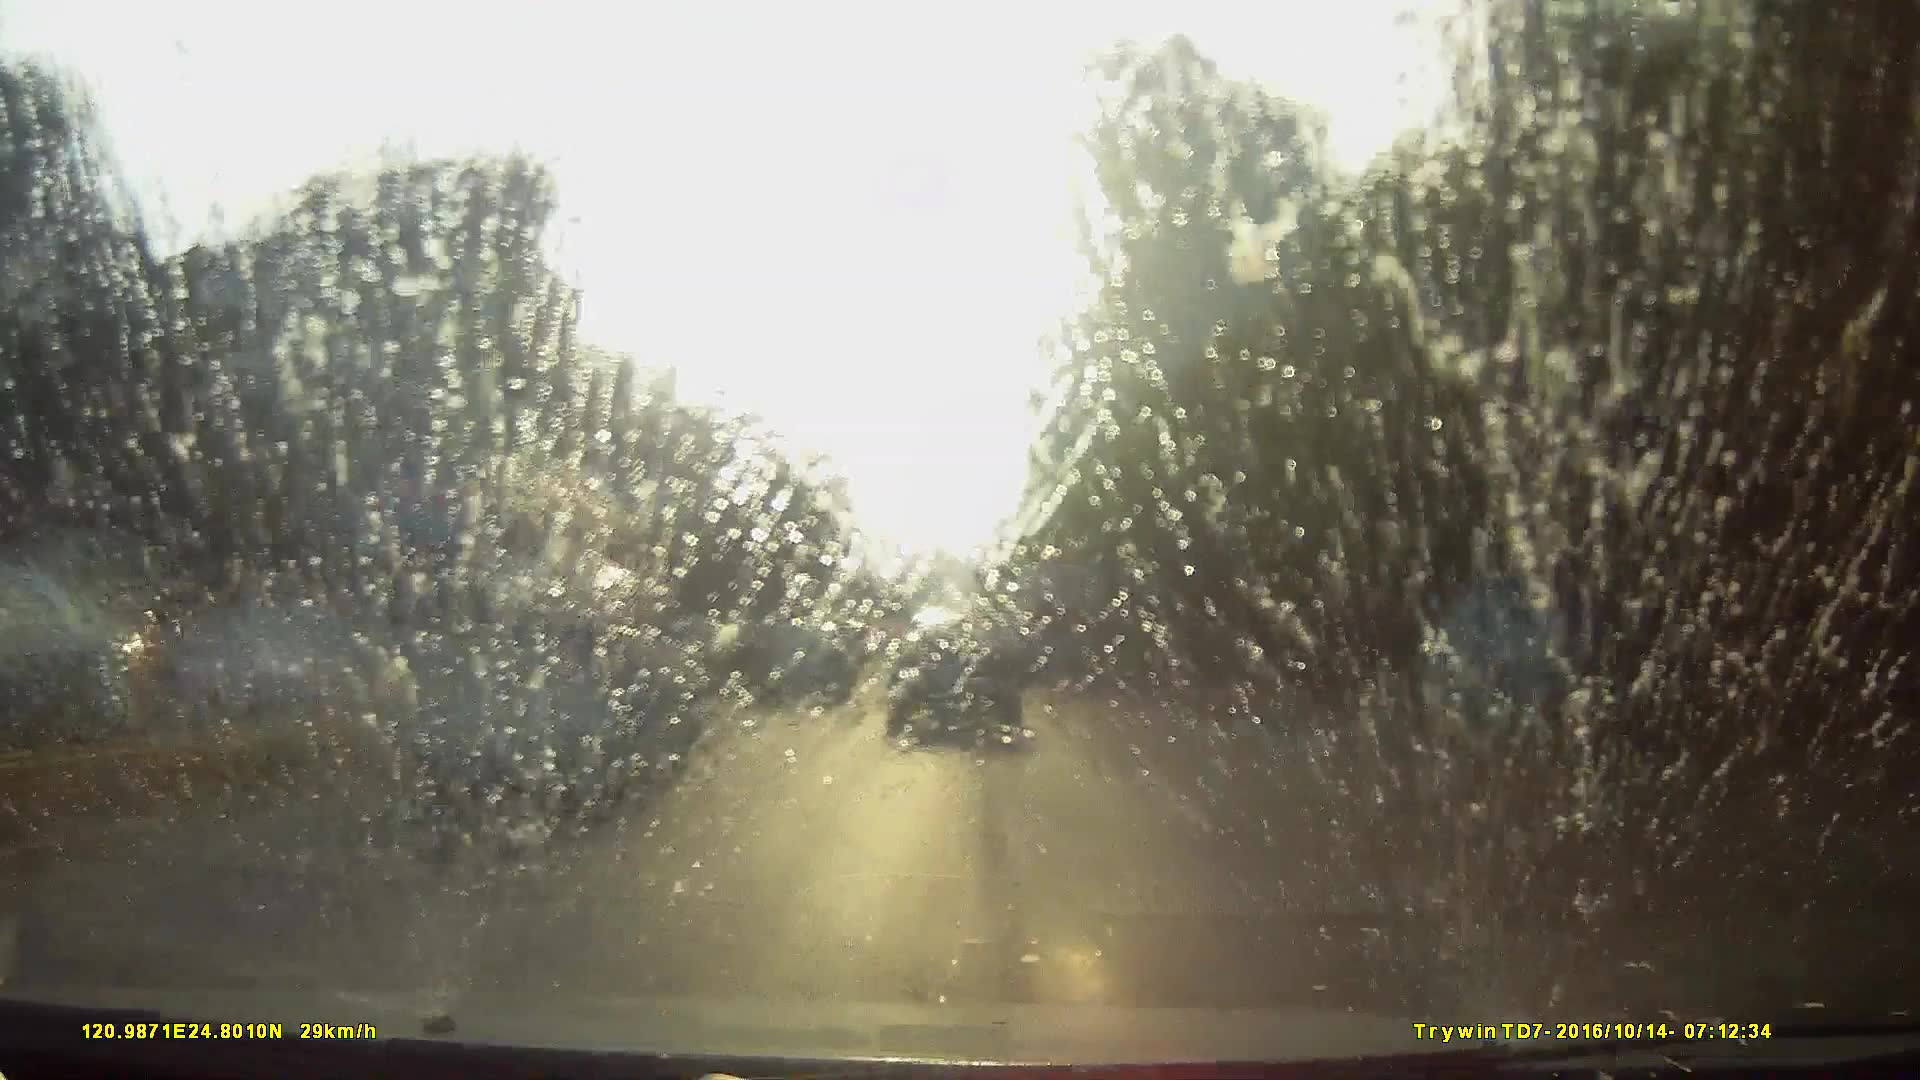vehicle: (251, 556, 684, 868), (260, 436, 666, 727), (398, 559, 705, 793), (887, 605, 1021, 742), (1002, 563, 1106, 688), (742, 622, 851, 708), (866, 638, 915, 687)
